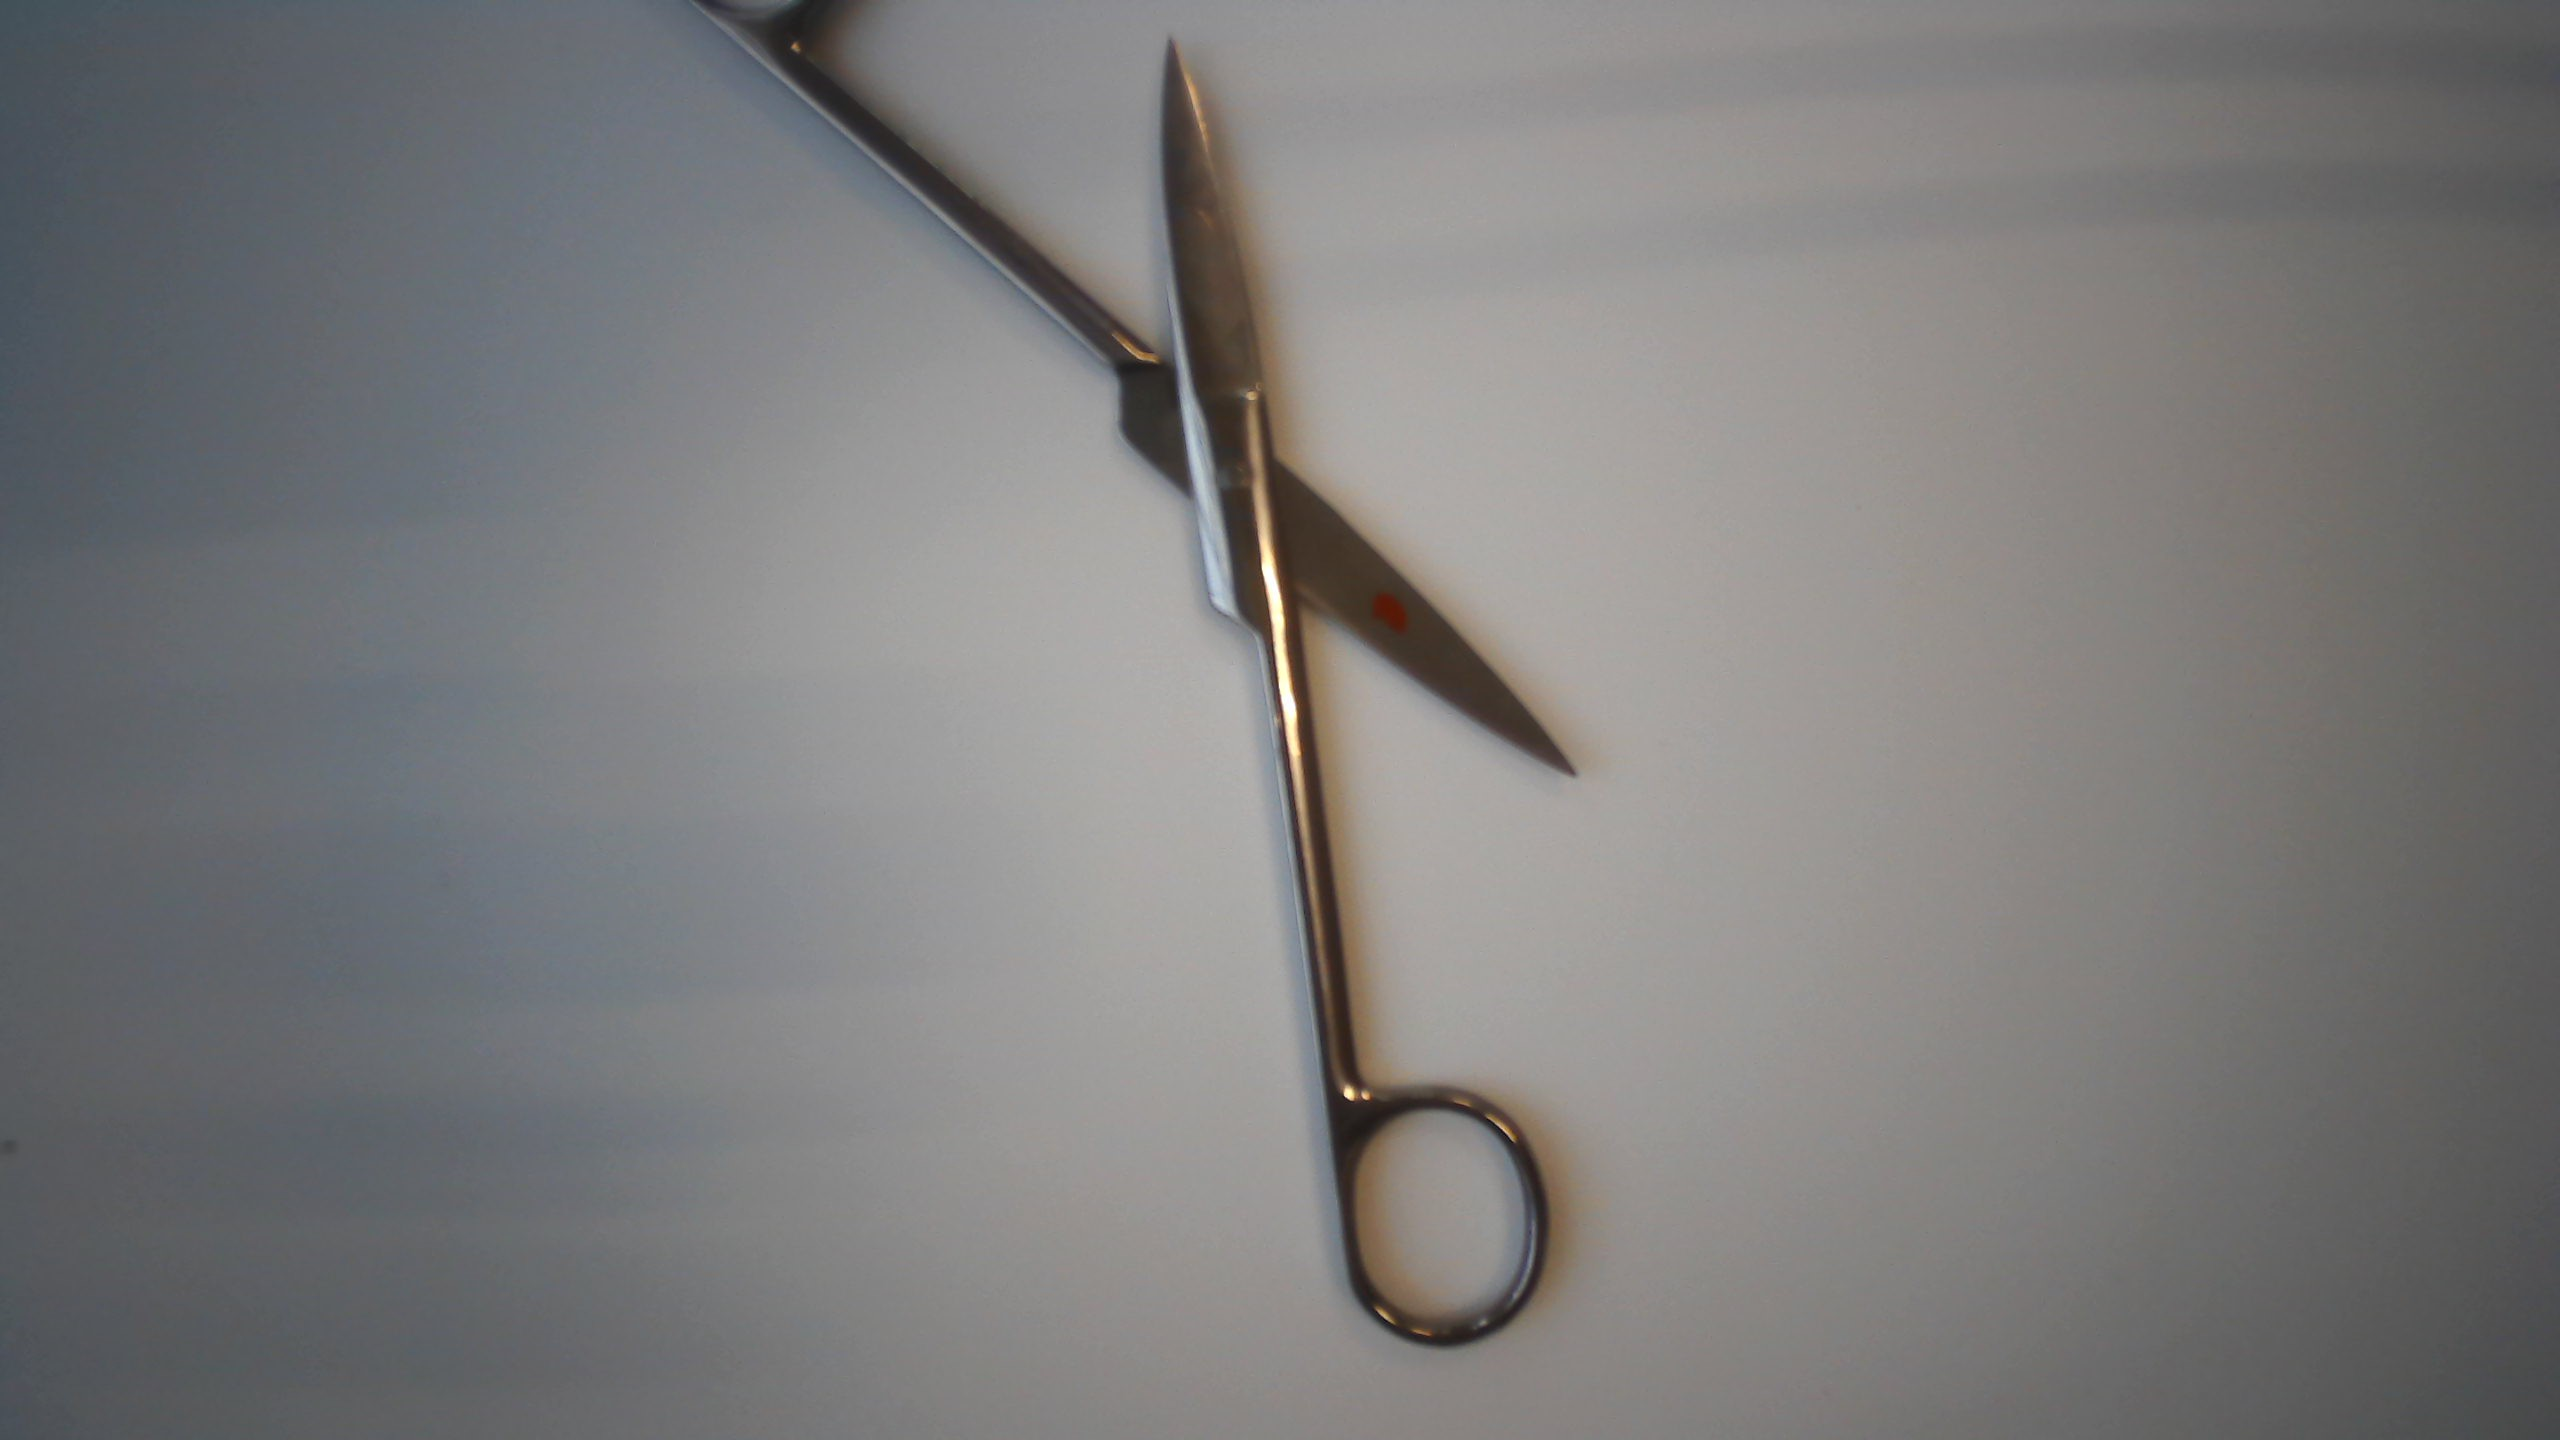Stain: (1364, 589, 1419, 636)
